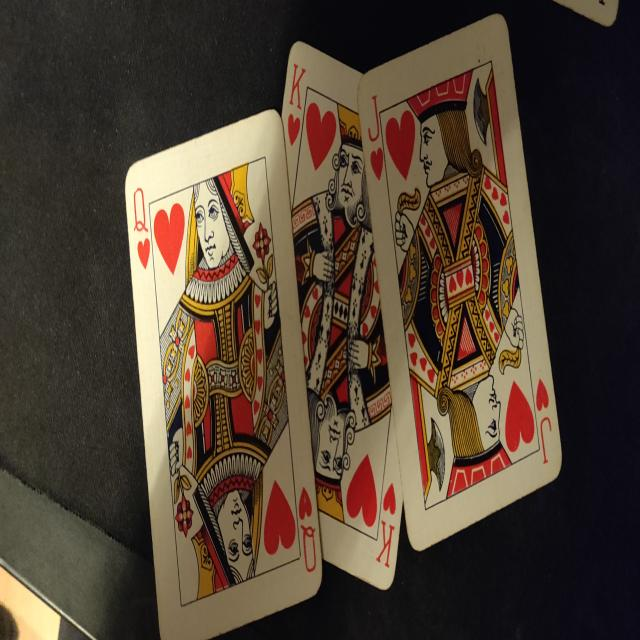Heart: (264, 479, 296, 555), (154, 202, 185, 276), (346, 454, 377, 527), (505, 380, 535, 452), (386, 110, 416, 180), (306, 102, 336, 171), (371, 147, 384, 181), (299, 486, 312, 520), (536, 378, 549, 411), (383, 482, 396, 514), (137, 238, 150, 270), (288, 113, 300, 146)
Jack: (540, 416, 552, 464), (368, 95, 380, 143)
King: (376, 520, 394, 568), (290, 63, 306, 110)
Queen: (301, 524, 316, 572), (134, 188, 148, 232)
